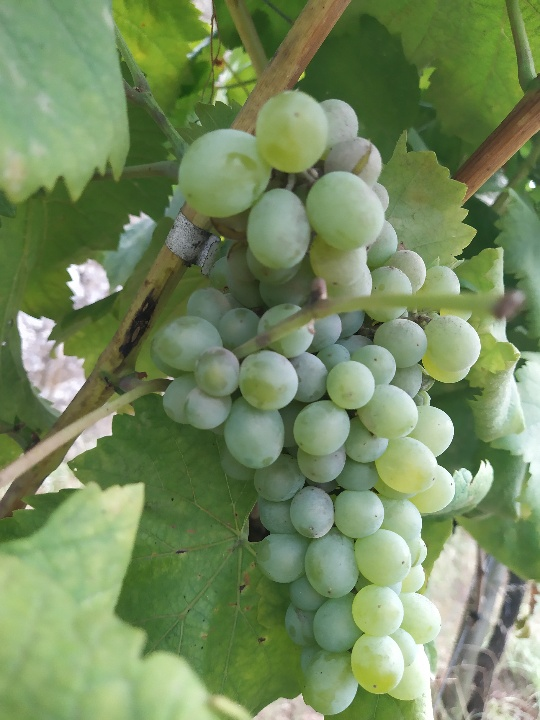grape: (156, 91, 487, 717)
